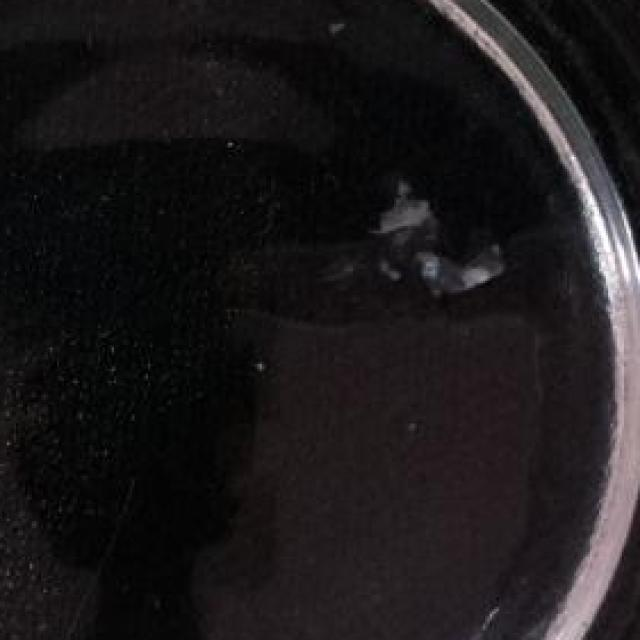Microplastic: (360, 186, 515, 302)
